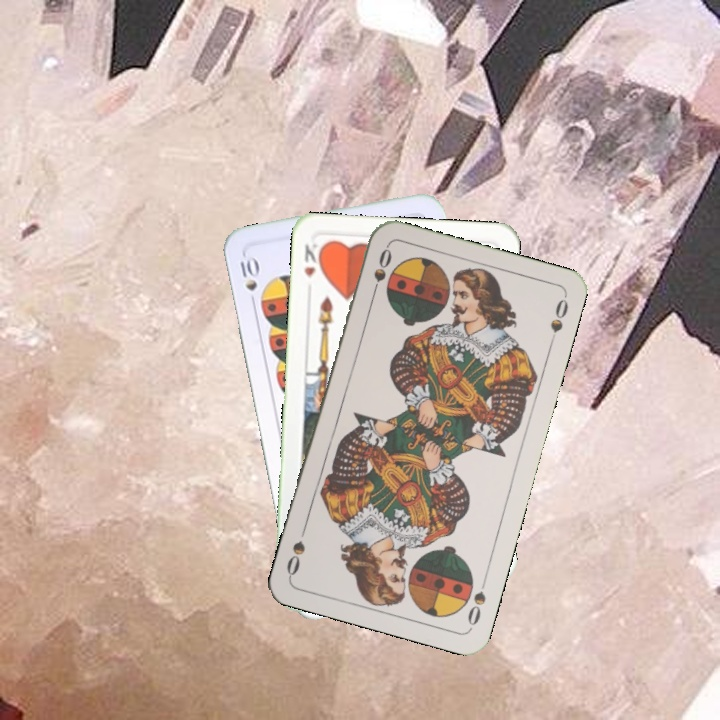HK: (300, 238, 325, 280)
S10: (236, 252, 261, 310)
SO: (367, 243, 395, 301), (463, 572, 490, 629)
